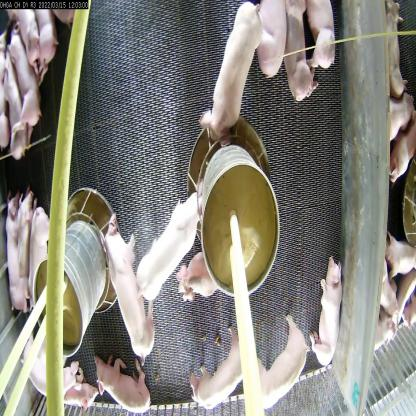Pig: (194, 4, 261, 147), (131, 189, 208, 300), (250, 320, 312, 415), (105, 226, 152, 350), (190, 337, 252, 412), (310, 256, 343, 370), (91, 359, 154, 416), (7, 203, 34, 326), (46, 353, 96, 416), (282, 0, 313, 100), (25, 210, 57, 298), (4, 44, 23, 175), (256, 1, 284, 85), (15, 34, 40, 110)
